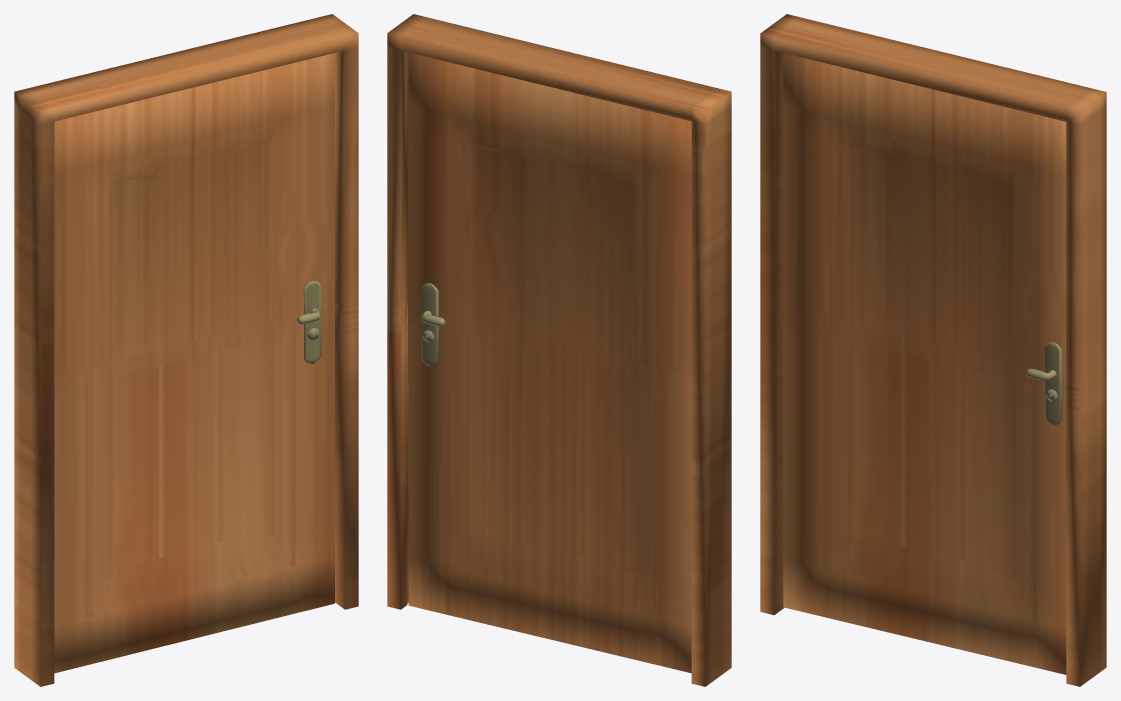
File: Door.obj
3 views of the same model, side by side, from view 1: azimuth 30°, elevation 25°; view 2: azimuth 150°, elevation 25°; view 3: azimuth 330°, elevation 25° (orthographic).
Parts seen in each view (by area): view 1: DoorBoddy_Cube.001, OutBoddy_Cube.002, Locker.001_Cube.004; view 2: DoorBoddy_Cube.001, OutBoddy_Cube.002, Locker_Cube.003; view 3: DoorBoddy_Cube.001, OutBoddy_Cube.002, Locker.001_Cube.004.
Part boxes in pixels (box(x1,y1,x2,y2)): DoorBoddy_Cube.001: box(54, 53, 334, 673); OutBoddy_Cube.002: box(14, 14, 358, 686); Locker.001_Cube.004: box(303, 280, 321, 363); DoorBoddy_Cube.001: box(408, 52, 691, 673); OutBoddy_Cube.002: box(387, 14, 731, 686); Locker_Cube.003: box(421, 283, 438, 366); DoorBoddy_Cube.001: box(783, 53, 1066, 674); OutBoddy_Cube.002: box(760, 14, 1106, 686); Locker.001_Cube.004: box(1044, 342, 1062, 425).
Bounding box in the file's own units: 7.18 × 12.42 × 1.09.
7 materials, 7 textured.
